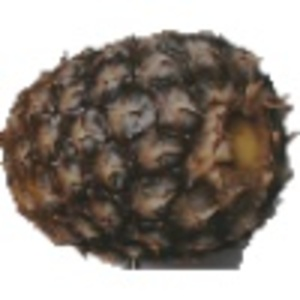abacaxi: (6, 25, 289, 261)
